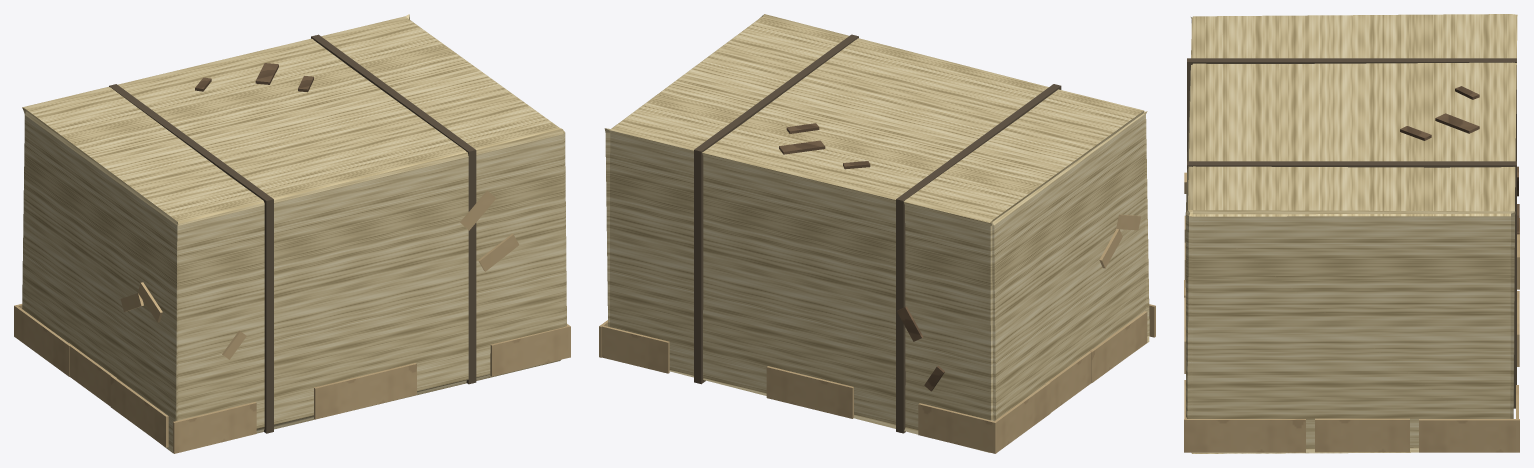
File: bale_desert.glb
3 views of the same model, side by side, from view 1: azimuth 30°, elevation 25°; view 2: azimuth 150°, elevation 25°; view 3: azimuth 270°, elevation 25° (orthographic). The views are drawn at different scales.
Parts seen in each view (by area): view 1: BaleDesert; view 2: BaleDesert; view 3: BaleDesert.
Boxes of the visible parts, left/top/right/bottom form: BaleDesert: left=14, top=14, right=570, bottom=453; BaleDesert: left=599, top=14, right=1155, bottom=453; BaleDesert: left=1184, top=14, right=1519, bottom=453.
Bounding box in the file's own units: 1.31 × 0.7481 × 0.9212.
4 materials, 3 textured.
